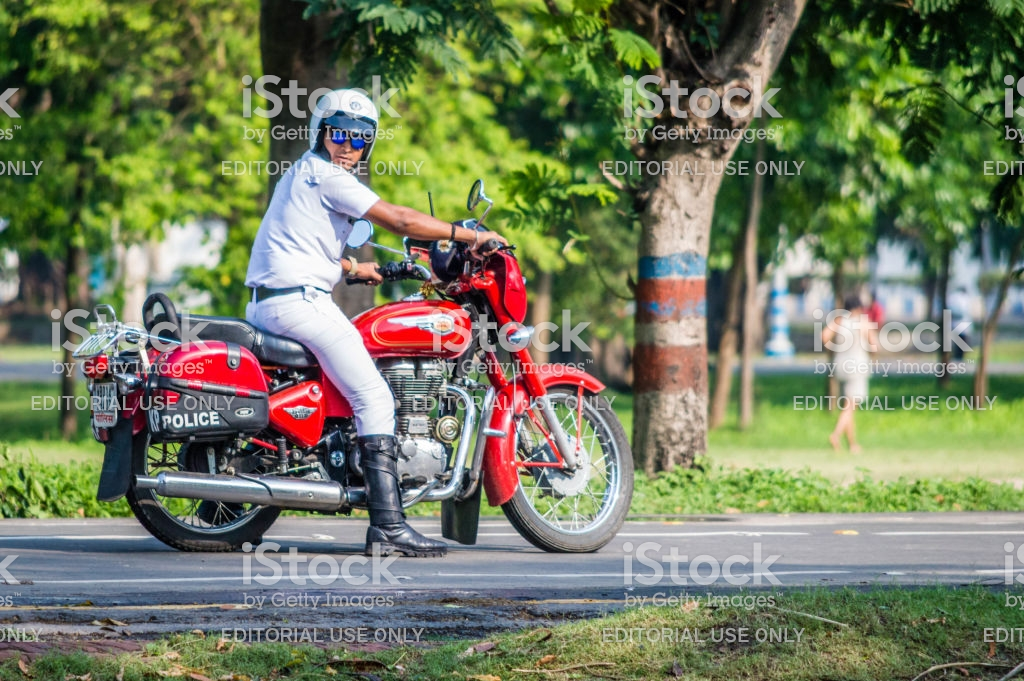helmet: (307, 89, 396, 168)
